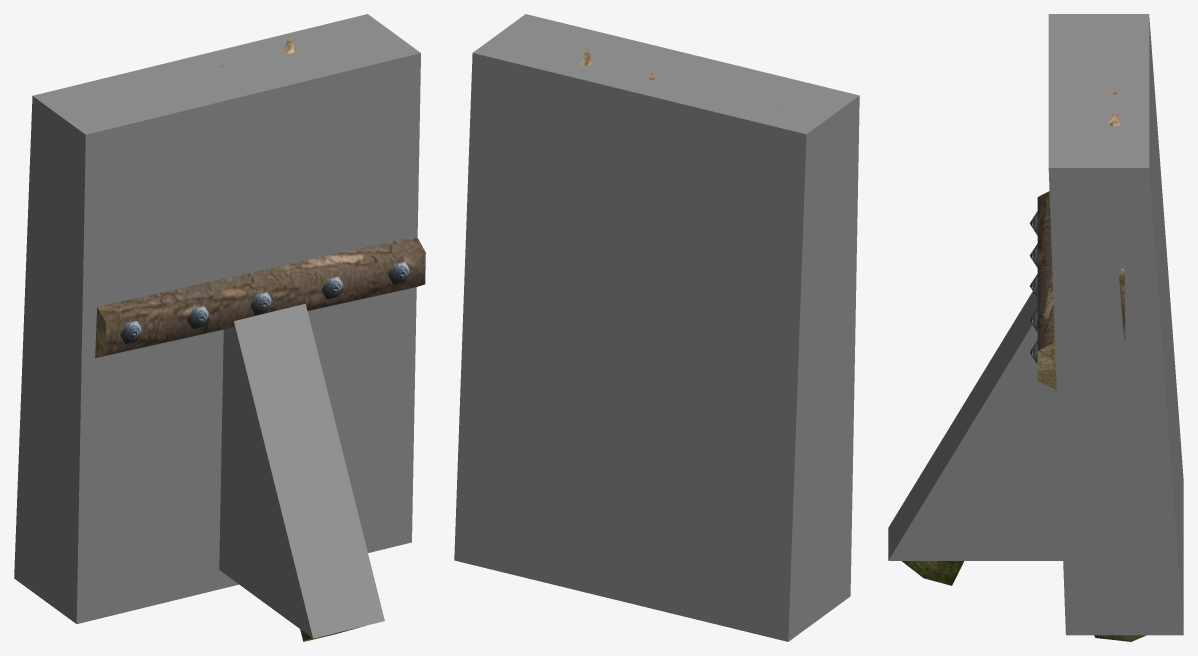
The model's file is Scene_Build_XuanWuShan_HuLan_1.FBX.
3 views of the same model, side by side, from view 1: azimuth 30°, elevation 25°; view 2: azimuth 150°, elevation 25°; view 3: azimuth 270°, elevation 25° (orthographic). The views are drawn at different scales.
Parts seen in each view (by area): view 1: Scene_Build_XuanWuShan_HuLan_1_Xcm, Scene_Build_XuanWuShan_HuLan_1; view 2: Scene_Build_XuanWuShan_HuLan_1_Xcm; view 3: Scene_Build_XuanWuShan_HuLan_1_Xcm, Scene_Build_XuanWuShan_HuLan_1.
Boxes of the visible parts, x1,y1,x2,y2 form: Scene_Build_XuanWuShan_HuLan_1_Xcm: (14, 14, 420, 638); Scene_Build_XuanWuShan_HuLan_1: (93, 35, 425, 641); Scene_Build_XuanWuShan_HuLan_1_Xcm: (454, 14, 859, 641); Scene_Build_XuanWuShan_HuLan_1_Xcm: (888, 14, 1183, 635); Scene_Build_XuanWuShan_HuLan_1: (902, 32, 1146, 641).
Size of the model in its own units: 163 by 244 by 132.
